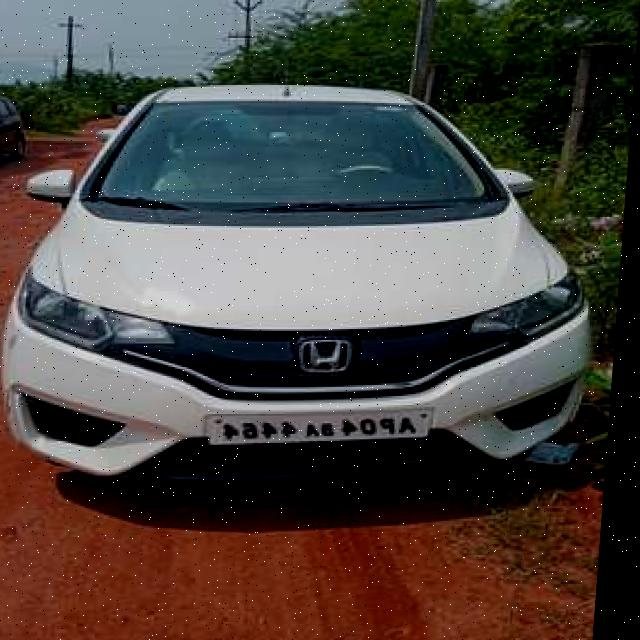plate: (214, 409, 439, 448)
